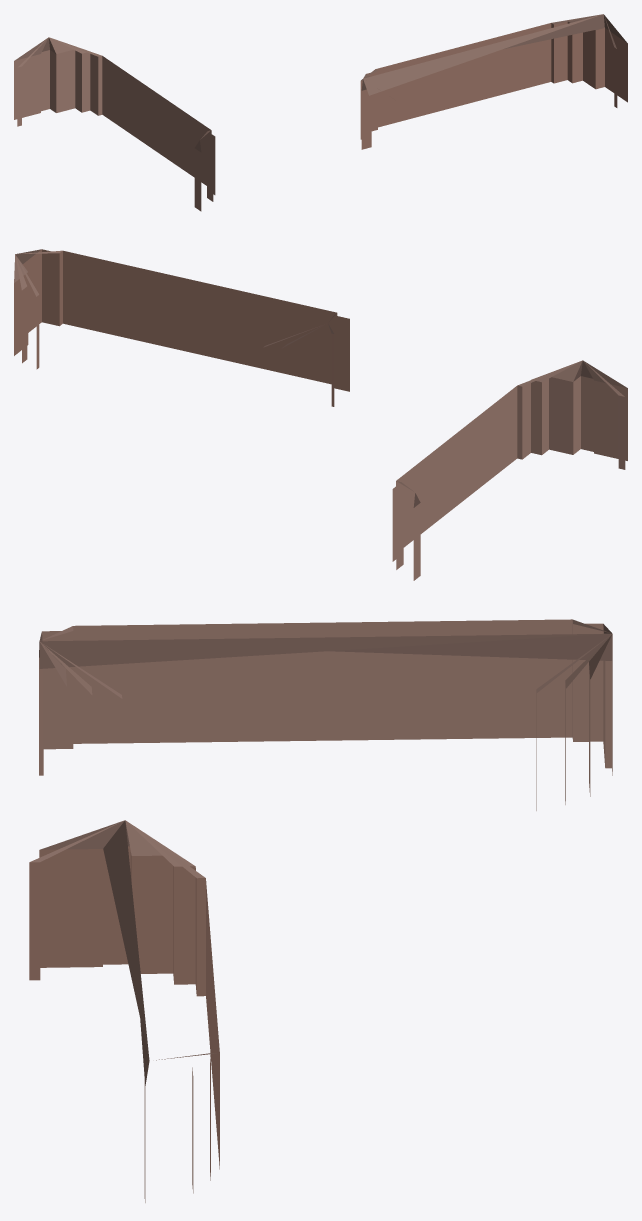
The model's file is c_1631_17834_buildings_residential.glb.
3 renders of one model, top to bottom at view 1: azimuth 30°, elevation 25°; view 2: azimuth 150°, elevation 25°; view 3: azimuth 270°, elevation 25°, orthographic. The views are drawn at different scales.
Visible parts, largest first — view 1: geometry_0; view 2: geometry_0; view 3: geometry_0.
Boxes of the visible parts, bbox=[...] form: geometry_0: bbox=[14, 14, 627, 211]; geometry_0: bbox=[14, 249, 627, 580]; geometry_0: bbox=[29, 619, 612, 1202].
Bounding box in the file's own units: 135 × 19.47 × 70.76.
